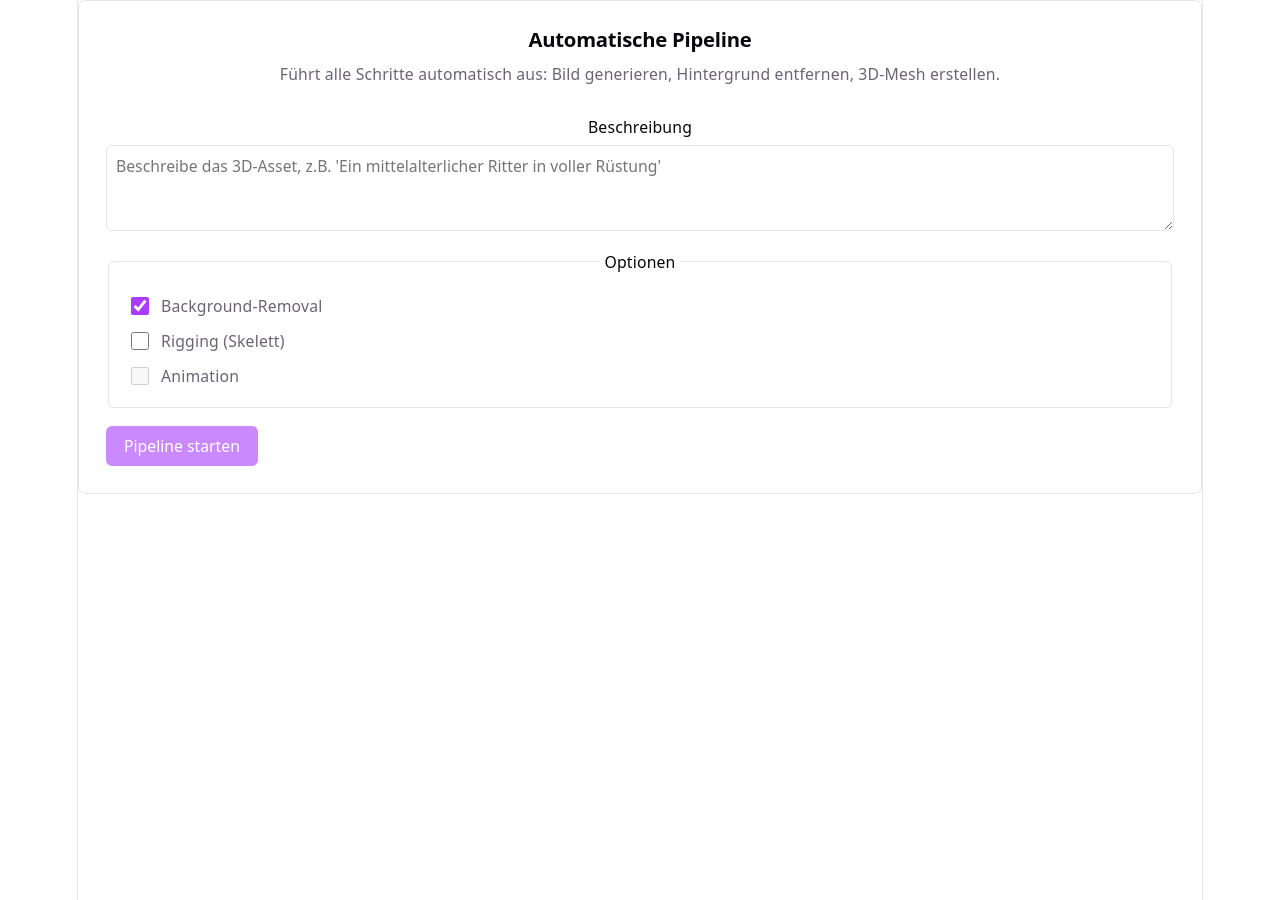
AutoPipelinePanel › aktiviert Submit-Button bei Prompt-Eingabe
The width and height of the screenshot is (1280, 900).
Step 1. Replace the text in the text box labelled "Beschreibung" with "Ein Roboter" → (640, 188), box [106,145,1174,231]
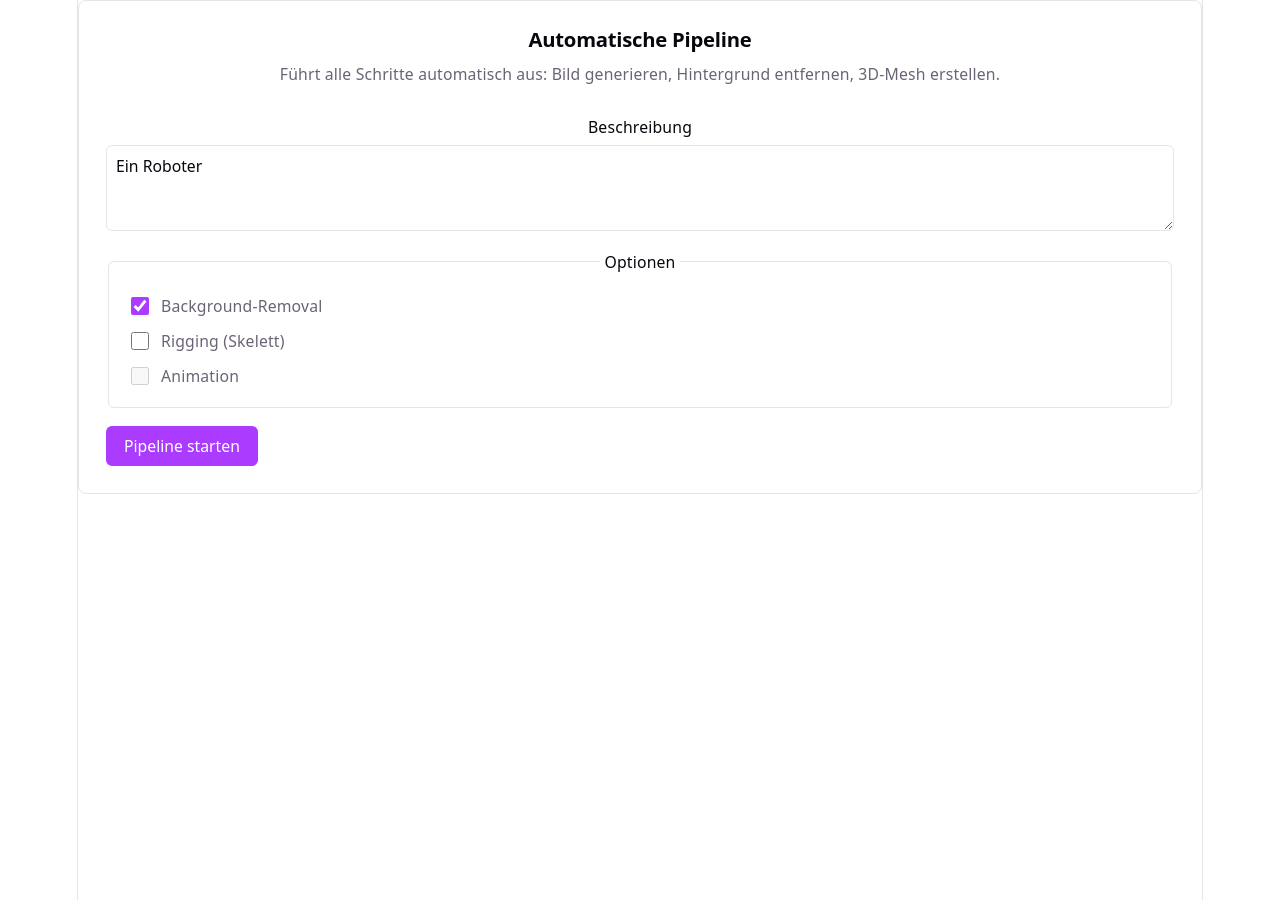
Result: the button "Pipeline starten" is enabled at [106,426,258,466]
